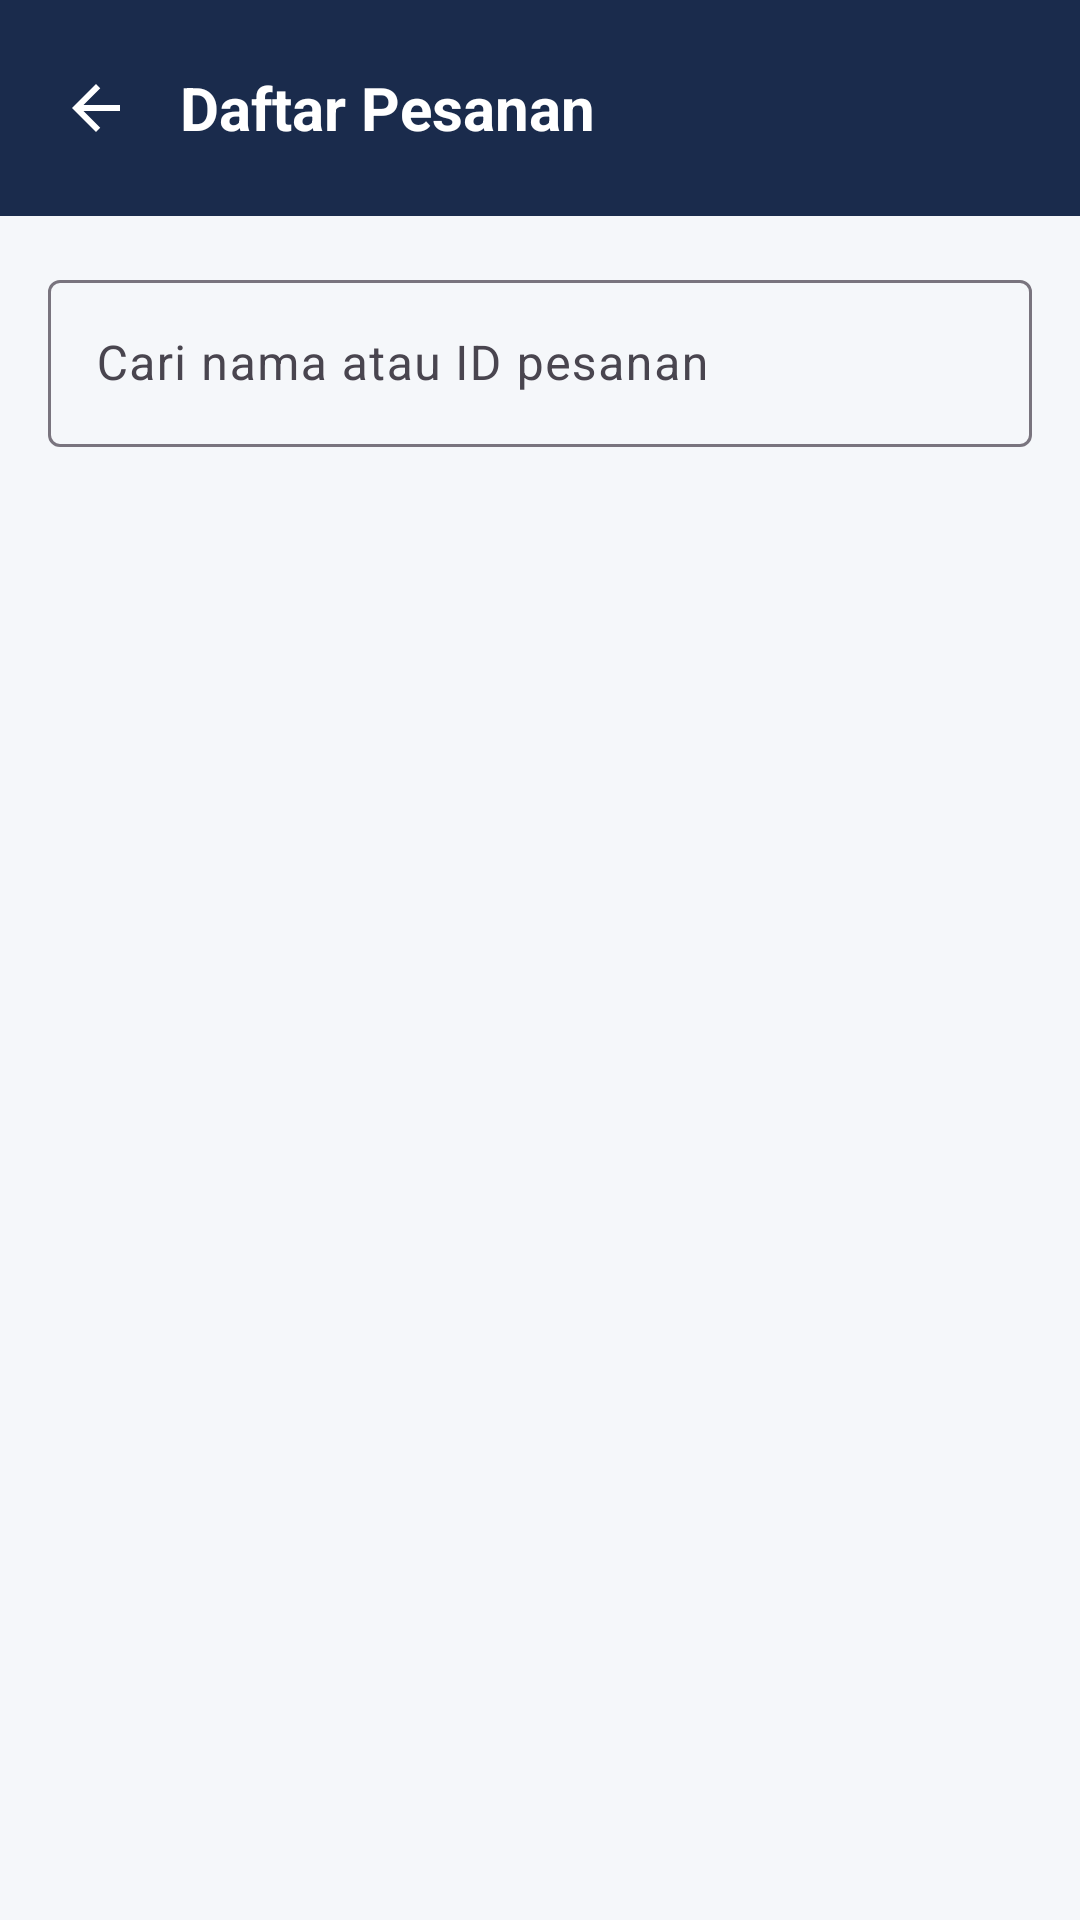

Icons on this 1080w x 1920h Android screen, each with the point to tap as (x,y):
Kembali: (96,108)
